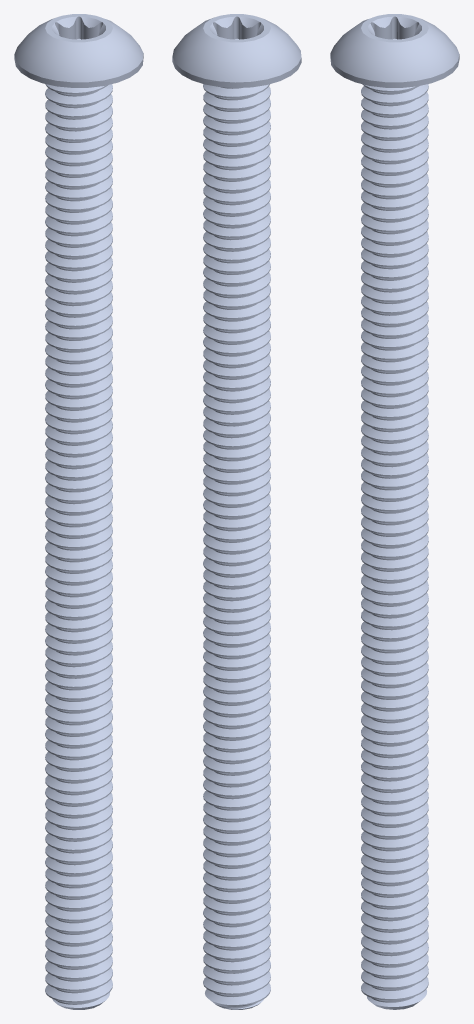
The model's file is SScrew Star Threaded 2.500.step.obj.
3 renders of one model, left to right at view 1: azimuth 30°, elevation 25°; view 2: azimuth 150°, elevation 25°; view 3: azimuth 330°, elevation 25°, orthographic.
Visible parts, largest first — view 1: Solid1; view 2: Solid1; view 3: Solid1.
Boxes of the visible parts, x1,y1,x2,y2 form: Solid1: (14,14,143,1009); Solid1: (172,14,301,1009); Solid1: (330,14,459,1009).
Size of the model in its own units: 0.3114 by 2.59 by 0.3108.
